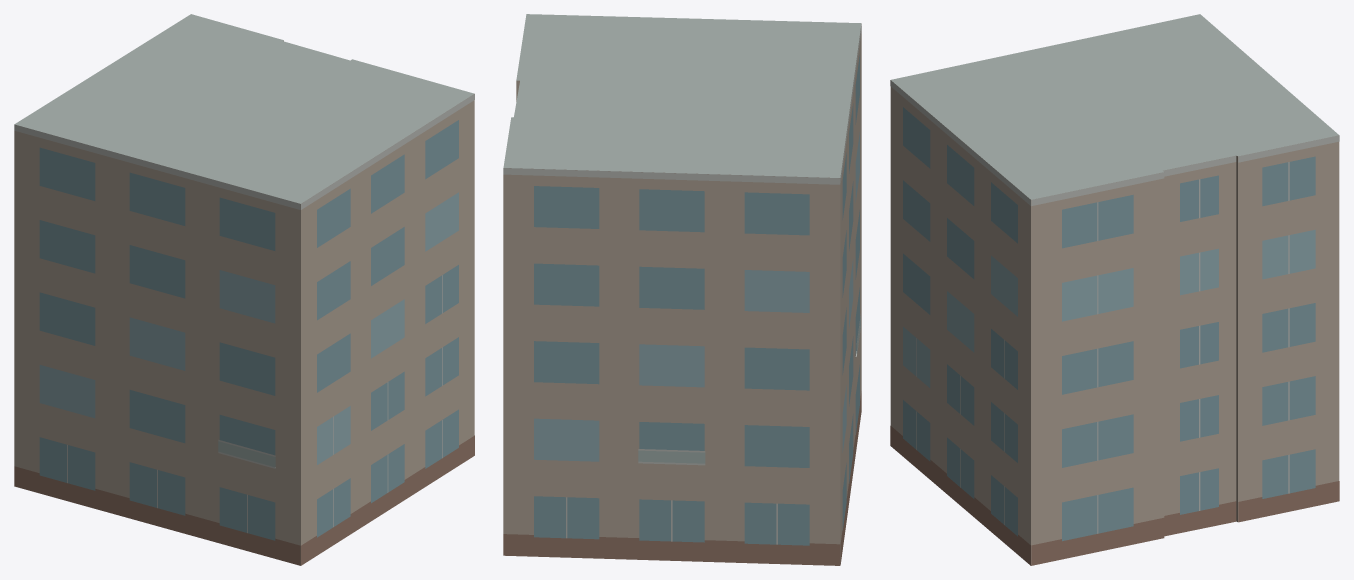
Rendered from survey-upis-33039803.glb.
3 renders of one model, left to right at view 1: azimuth 30°, elevation 25°; view 2: azimuth 150°, elevation 25°; view 3: azimuth 270°, elevation 25°, orthographic. The views are drawn at different scales.
Visible parts, largest first — view 1: survey-upis-33039803.tmp; view 2: survey-upis-33039803.tmp; view 3: survey-upis-33039803.tmp.
Part boxes in pixels (x1,y1,x2,y2): survey-upis-33039803.tmp: (14,14,474,565); survey-upis-33039803.tmp: (503,14,861,565); survey-upis-33039803.tmp: (890,14,1339,565).
Size of the model in its own units: 15.37 by 14.1 by 15.68.
